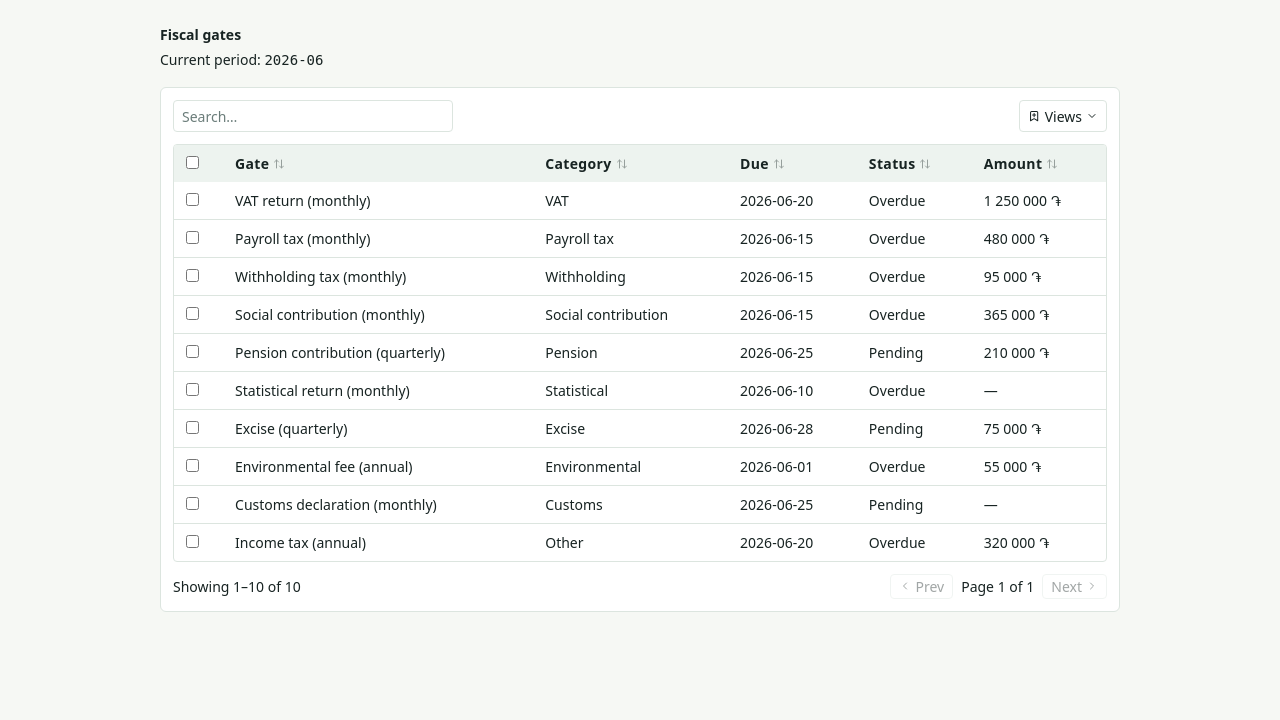
FiscalGates route — PeekPanel › clicking a row body opens the PeekPanel with the gate kind label
Click the row with test id "data-table-row-" at (640,201), box [174, 182, 1106, 220]
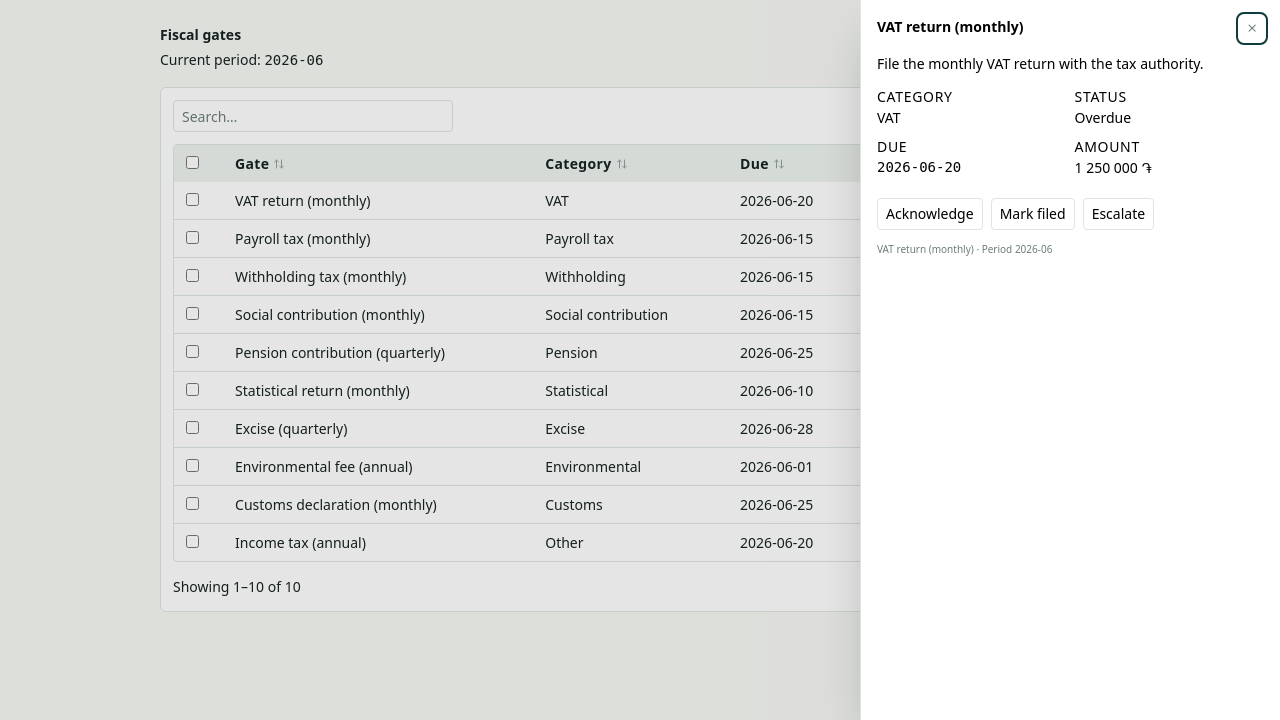
Now the dialog with test id "peek-panel" is shown, box [860, 0, 1279, 719]
